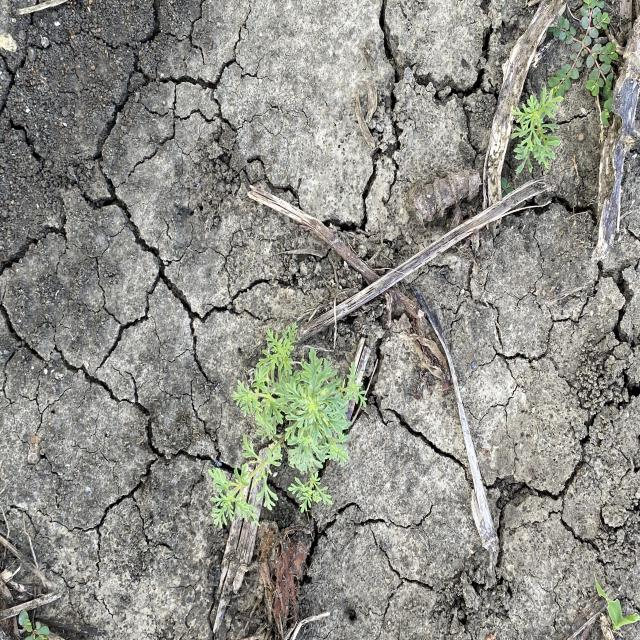Ragweed: (206, 316, 370, 528), (504, 86, 566, 178)
SpottedSpurge: (544, 1, 621, 133)
